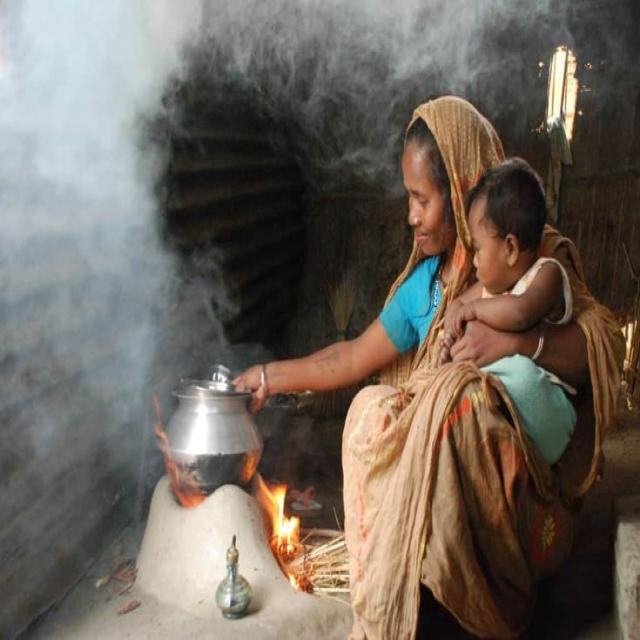fire: (153, 390, 205, 510), (254, 472, 299, 557)
